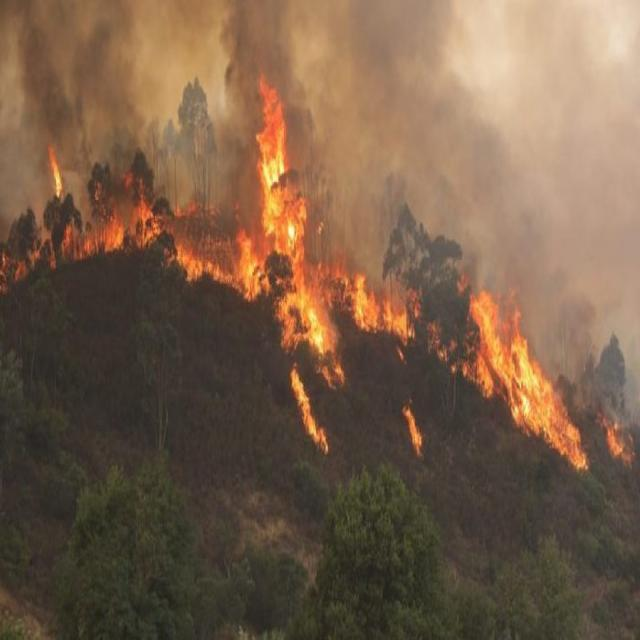Fire: (86, 149, 256, 308), (256, 76, 341, 384), (466, 290, 588, 468), (0, 214, 86, 289), (344, 276, 407, 338), (291, 366, 329, 454), (598, 414, 636, 466), (402, 404, 422, 456), (48, 145, 61, 196)
Smoke: (342, 3, 638, 275), (0, 0, 254, 144), (256, 0, 342, 78)
